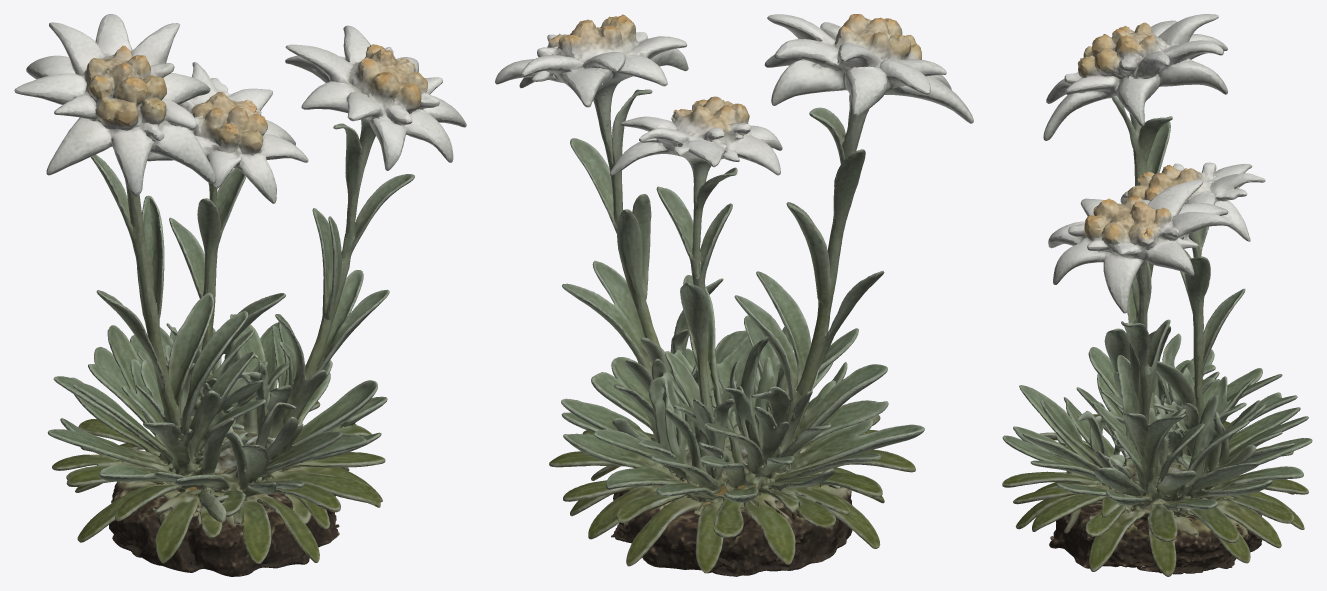
Rendered from task-4902820.glb.
The picture shows the model from 3 angles, left to right: view 1: azimuth 30°, elevation 25°; view 2: azimuth 150°, elevation 25°; view 3: azimuth 270°, elevation 25°; orthographic projection. The views are drawn at different scales.
Parts seen in each view (by area): view 1: world; view 2: world; view 3: world.
Part boxes in pixels (x1,y1,x2,y2): world: (14, 14, 466, 576); world: (495, 14, 973, 576); world: (1002, 14, 1312, 576).
Size of the model in its own units: 0.1922 by 0.22 by 0.134.
1 material, 1 textured.
